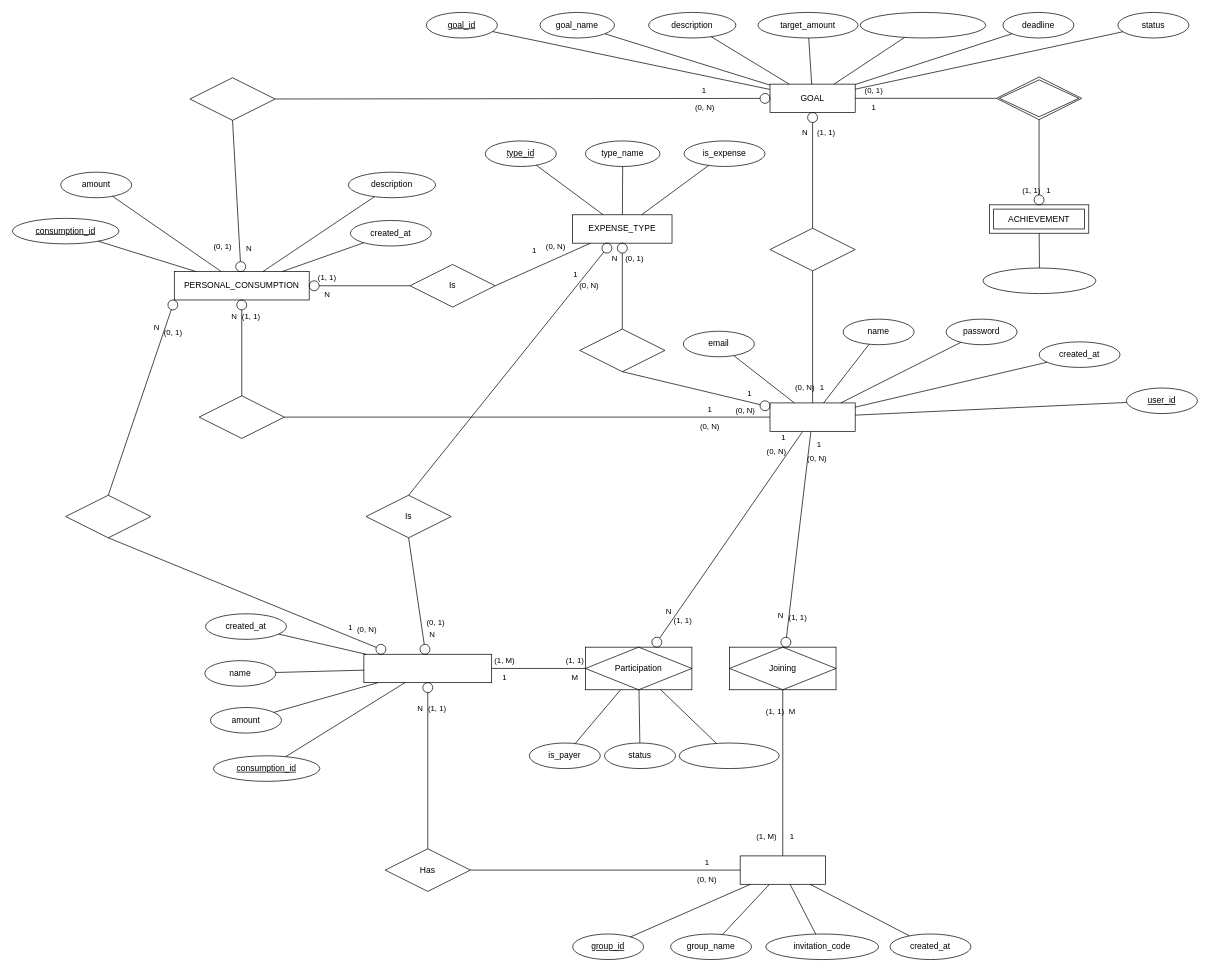
Image size: 1210x972. Some labels were removed from this diagram. The shapes that lost their labels are listed below. From the top down, each one's centre as x and y in pixels, then its label:
At point (922, 25): "cumulative_amount".
At point (232, 98): "Assign_To".
At point (1039, 98): "Convert_To".
At point (812, 249): "Set".
At point (1039, 280): "completion_date".
At point (622, 350): "Create".
At point (241, 416): "Spend".
At point (812, 416): "USER".
At point (108, 516): "Splits_Into".
At point (427, 668): "GROUP_CONSUMPTION".
At point (728, 755): "shared_amount".
At point (782, 869): "GROUP".
